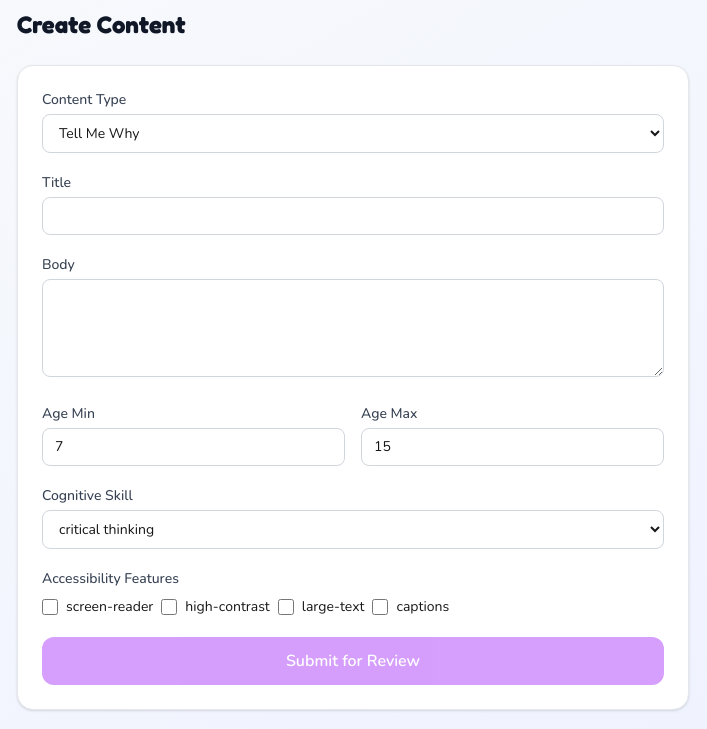
it: ContentCreatePage — Story 4.1 › AC: submitting shows confirmation that content entered review
In the field with test id "content-title-input": (353, 216) x1=42 y1=197 x2=664 y2=235, type "Test Title"
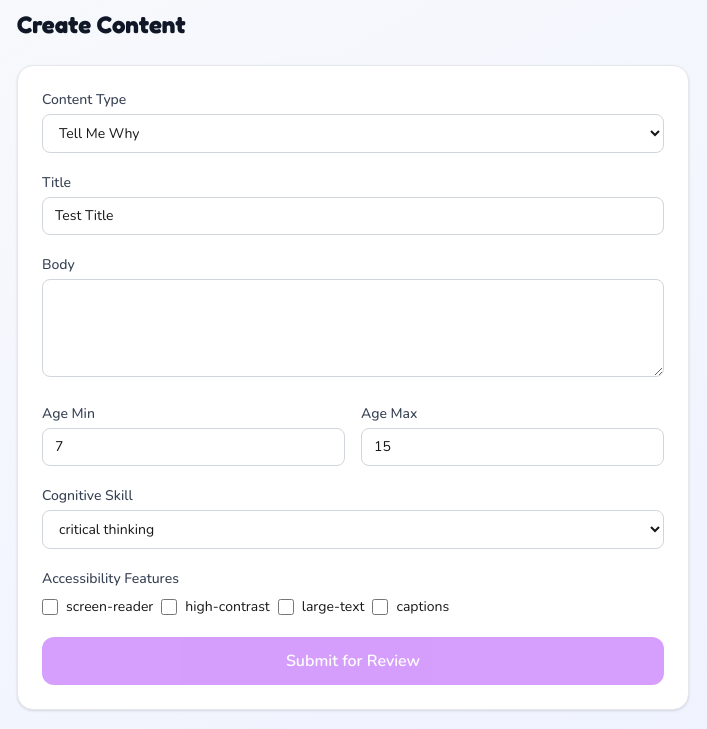
In the text box with test id "content-body-input": (353, 328) x1=42 y1=279 x2=664 y2=377, type "Test body."
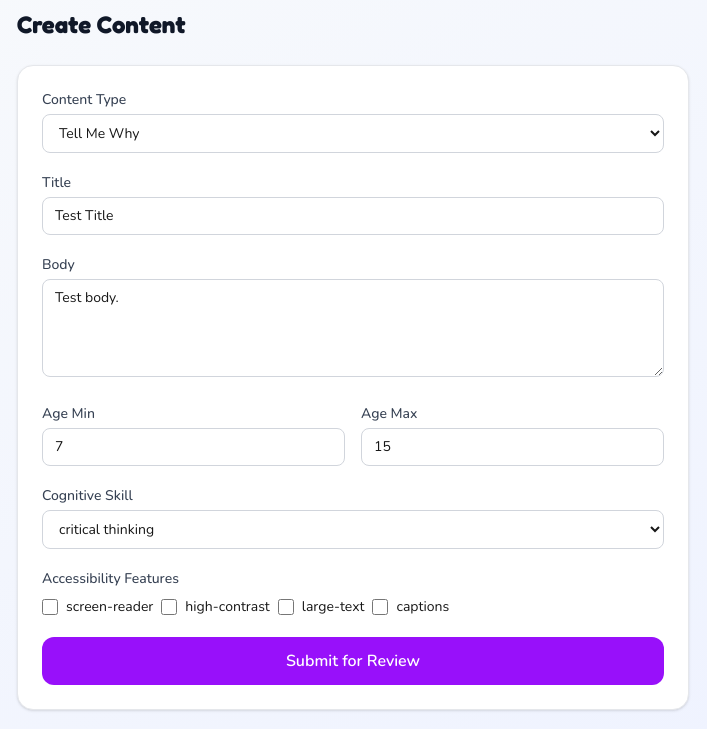
Click the button with test id "content-submit-button": (353, 661) x1=42 y1=637 x2=664 y2=685
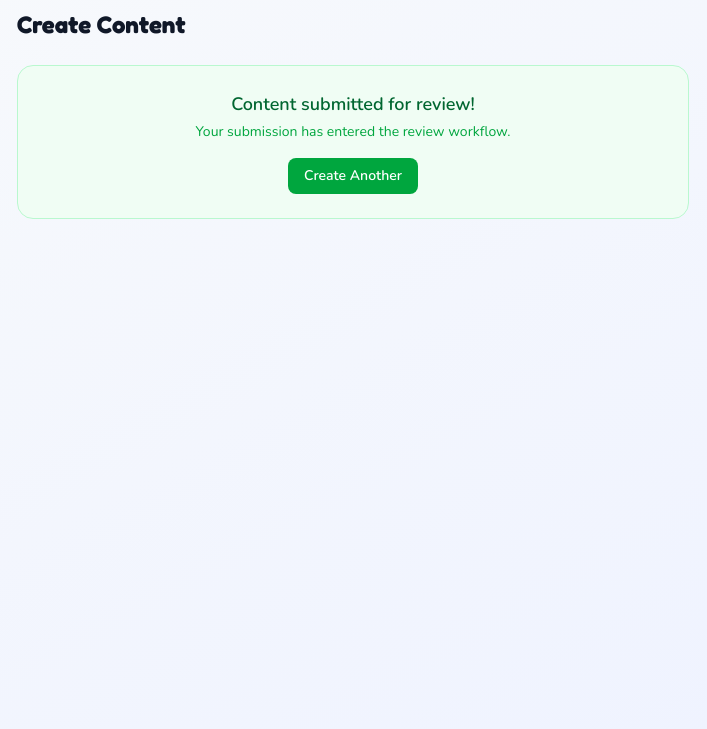
Expected: the element with test id "submit-confirmation" is shown, x1=17 y1=65 x2=689 y2=219
